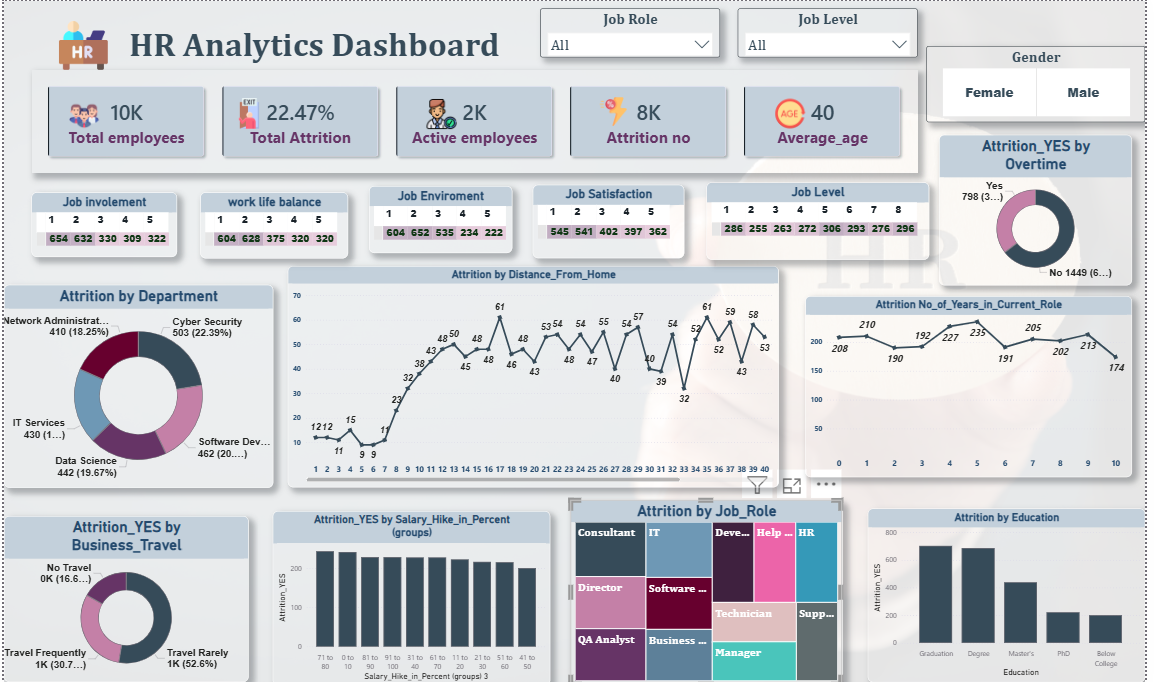

Layout of this report page (visuals, bound fields, positions):
{"tool":"powerbi","page":{"name":"Page 1","canvas":[2000,1200],"ordinal":0},"visuals":[{"type":"donutChart","fields":{"Category":["Employee.Department"],"Y":["Employee.Attrition_YES"]},"box":[0,497.4,471.7,355.9],"z":0},{"type":"treemap","title":"Attrition by Job_Role","fields":{"Group":["Employee.Job_Role"],"Values":["Employee.Attrition_YES"]},"box":[992.6,874.2,477.7,326.5],"z":1000},{"type":"lineChart","title":"Attrition by Distance_From_Home","fields":{"Category":["Employee.Distance_From_Home"],"Y":["Employee.Attrition_YES"]},"box":[497.4,464.5,861.1,387.8],"z":2000},{"type":"donutChart","fields":{"Category":["Employee.Overtime"],"Y":["Employee.Attrition_YES"]},"box":[1638.1,233.7,338.8,263.7],"z":3000},{"type":"pivotTable","title":"Job Satisfaction","fields":{"Columns":["Employee.Job_Satisfaction"],"Values":["Employee.Attrition_YES"]},"box":[926.2,321.6,265.9,128.6],"z":4000},{"type":"pivotTable","title":"Job Enviroment","fields":{"Columns":["Employee.Environment_Satisfaction"],"Values":["Employee.Attrition_YES"]},"box":[638.9,323.8,250.9,117.9],"z":5000},{"type":"pivotTable","title":"work life balance","fields":{"Columns":["Employee.Work_Life_Balance"],"Values":["Employee.Attrition_YES"]},"box":[343.1,334.5,259.4,115.8],"z":6000},{"type":"donutChart","fields":{"Category":["Employee.Business_Travel"],"Y":["Employee.Attrition_YES"]},"box":[0,902.7,428.8,291.6],"z":7000},{"type":"lineChart","title":"Attrition No_of_Years_in_Current_Role","fields":{"Category":["Employee.No_of_Years_in_Current_Role"],"Y":["Employee.Attrition_YES"]},"box":[1404.4,516.7,572.5,317.3],"z":8000},{"type":"columnChart","title":"Attrition_YES by Salary_Hike_in_Percent (groups) ","fields":{"Y":["Employee.Attrition_YES"],"Category":["Employee.Salary_Hike_in_Percent (groups) 3"]},"box":[471.7,894.1,486.7,306.6],"z":9000},{"type":"columnChart","title":"Attrition by Education ","fields":{"Y":["Employee.Attrition_YES"],"Category":["Employee.Education"]},"box":[1514,889.6,486.4,304.6],"z":10000},{"type":"pivotTable","title":"Job involement","fields":{"Columns":["Employee.Job_Involvement"],"Values":["Employee.Attrition_YES"]},"box":[47.2,334.5,255.1,113.6],"z":11000},{"type":"pivotTable","title":"Job Level","fields":{"Columns":["Employee.Job_Level"],"Values":["Employee.Attrition_YES"]},"box":[1231.4,317.7,390,135.8],"z":12000},{"type":"cardVisual","fields":{"Data":["CountNonNull(Employee.Employee_ID)","Employee.Attrition_Rate","Employee.Attrition_YES","Employee.Attrition_NO","Employee.Average_age"]},"box":[48.2,120.5,1553.5,181.9],"z":13000},{"type":"textbox","box":[214.7,35.1,714.3,85.5],"z":14000},{"type":"image","box":[63.5,35.1,151.2,85.5],"z":15000},{"type":"image","box":[113.9,168.7,52.6,65.7],"z":16000},{"type":"image","box":[1038.6,168.7,59.2,50.4],"z":17000},{"type":"image","box":[396.6,168.7,65.7,57],"z":18000},{"type":"image","box":[740.6,162.1,52.6,72.3],"z":19000},{"type":"image","box":[1351.9,170.9,52.6,52.6],"z":20000},{"type":"slicer","title":"Gender","fields":{"Values":["Employee.Gender"]},"box":[1617,78.9,383.4,133.7],"z":21000},{"type":"slicer","title":"Job Role","fields":{"Values":["Employee.Job_Role"]},"box":[940,13.1,315.5,85.5],"z":22000},{"type":"slicer","title":"Job Level","fields":{"Values":["Employee.Job_Level"]},"box":[1286.2,13.1,315.5,85.5],"z":23000}]}

Visuals, with their boxes in screenshot pixels (x1, y1, x2, y2), scaled from the page's 2000x1200 canvas onto the 1156x682 screenshot:
donutChart - Employee.Department x Employee.Attrition_YES: <region>0, 283, 273, 485</region>
"Attrition by Job_Role" treemap: <region>574, 497, 850, 681</region>
"Attrition by Distance_From_Home" lineChart: <region>287, 264, 785, 484</region>
donutChart - Employee.Overtime x Employee.Attrition_YES: <region>947, 133, 1143, 283</region>
"Job Satisfaction" pivotTable: <region>535, 183, 689, 256</region>
"Job Enviroment" pivotTable: <region>369, 184, 514, 251</region>
"work life balance" pivotTable: <region>198, 190, 348, 256</region>
donutChart - Employee.Business_Travel x Employee.Attrition_YES: <region>0, 513, 248, 679</region>
"Attrition No_of_Years_in_Current_Role" lineChart: <region>812, 294, 1143, 474</region>
"Attrition_YES by Salary_Hike_in_Percent (groups) " columnChart: <region>273, 508, 554, 681</region>
"Attrition by Education " columnChart: <region>875, 506, 1155, 679</region>
"Job involement" pivotTable: <region>27, 190, 175, 255</region>
"Job Level" pivotTable: <region>712, 181, 937, 258</region>
cardVisual - CountNonNull(Employee.Employee_ID) x Employee.Attrition_Rate: <region>28, 68, 926, 172</region>
textbox: <region>124, 20, 537, 69</region>
image: <region>37, 20, 124, 69</region>
image: <region>66, 96, 96, 133</region>
image: <region>600, 96, 635, 125</region>
image: <region>229, 96, 267, 128</region>
image: <region>428, 92, 458, 133</region>
image: <region>781, 97, 812, 127</region>
"Gender" slicer: <region>935, 45, 1155, 121</region>
"Job Role" slicer: <region>543, 7, 726, 56</region>
"Job Level" slicer: <region>743, 7, 926, 56</region>
